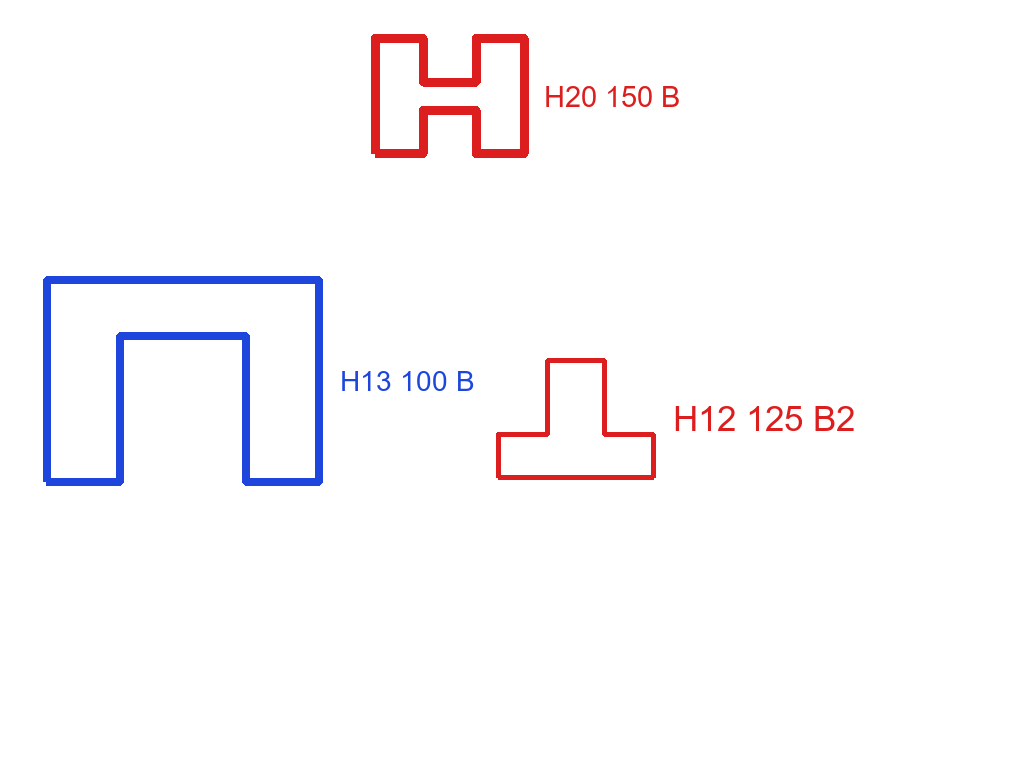shape: (40, 275, 326, 488), (369, 32, 531, 160), (494, 356, 658, 482)
text: (671, 404, 857, 433), (542, 84, 682, 109), (338, 369, 477, 393)
